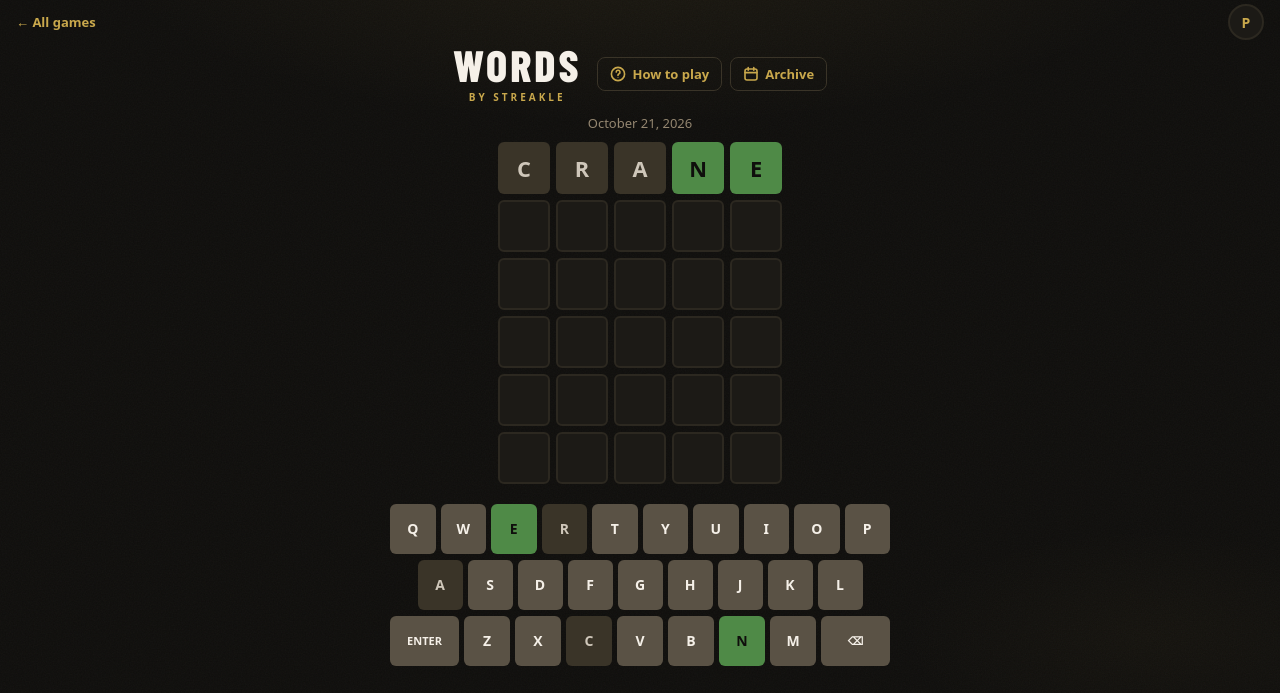
Test: Words: today's checkpoint › leaves today's checkpoint alone during a replay and resumes it after
This screenshot has width=1280, height=693.
Click the button with aria-label "Archive".
click(779, 74)  # box [730, 57, 827, 91]
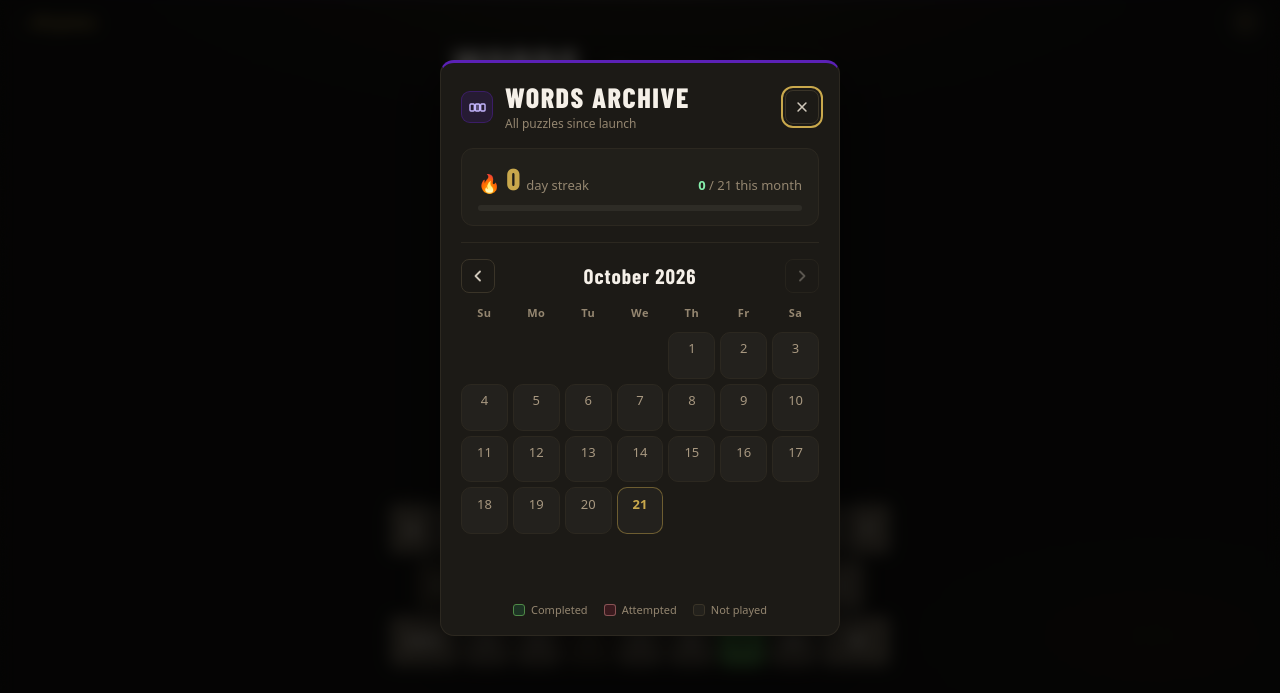
Click the button "18".
click(484, 511)  # box [461, 487, 508, 534]
Wait 2200 ms
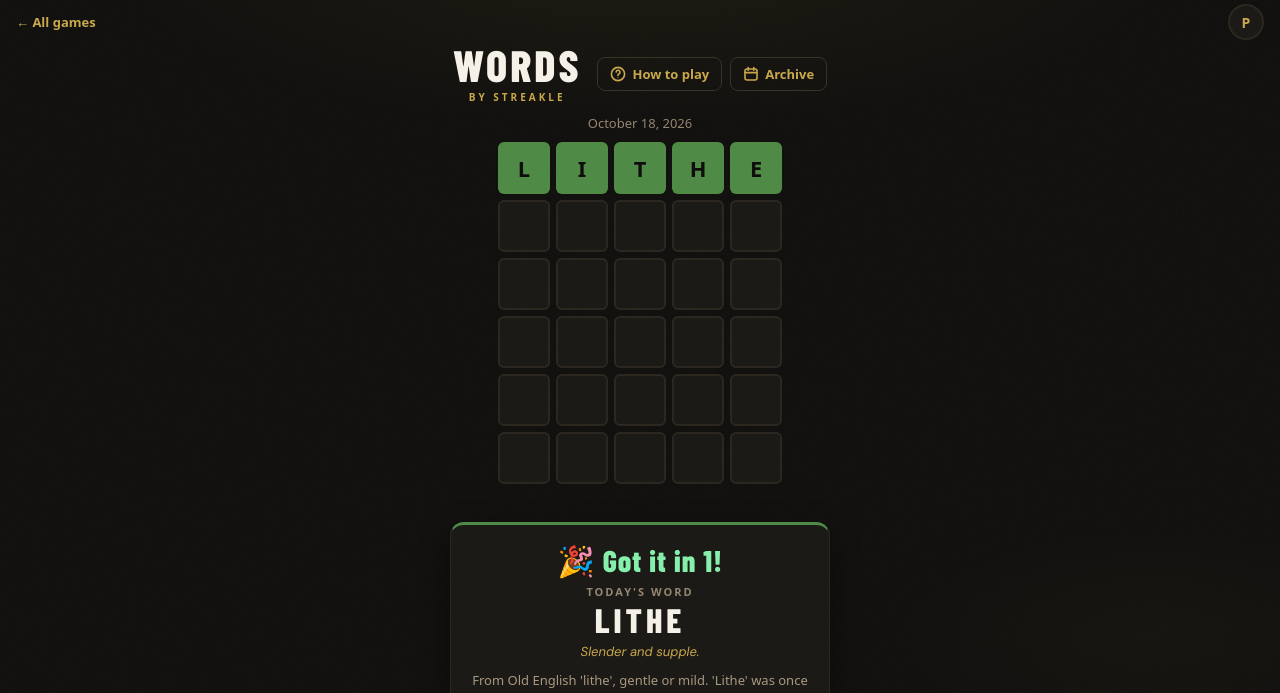
Click the button with aria-label "Archive".
click(779, 74)  # box [730, 57, 827, 91]
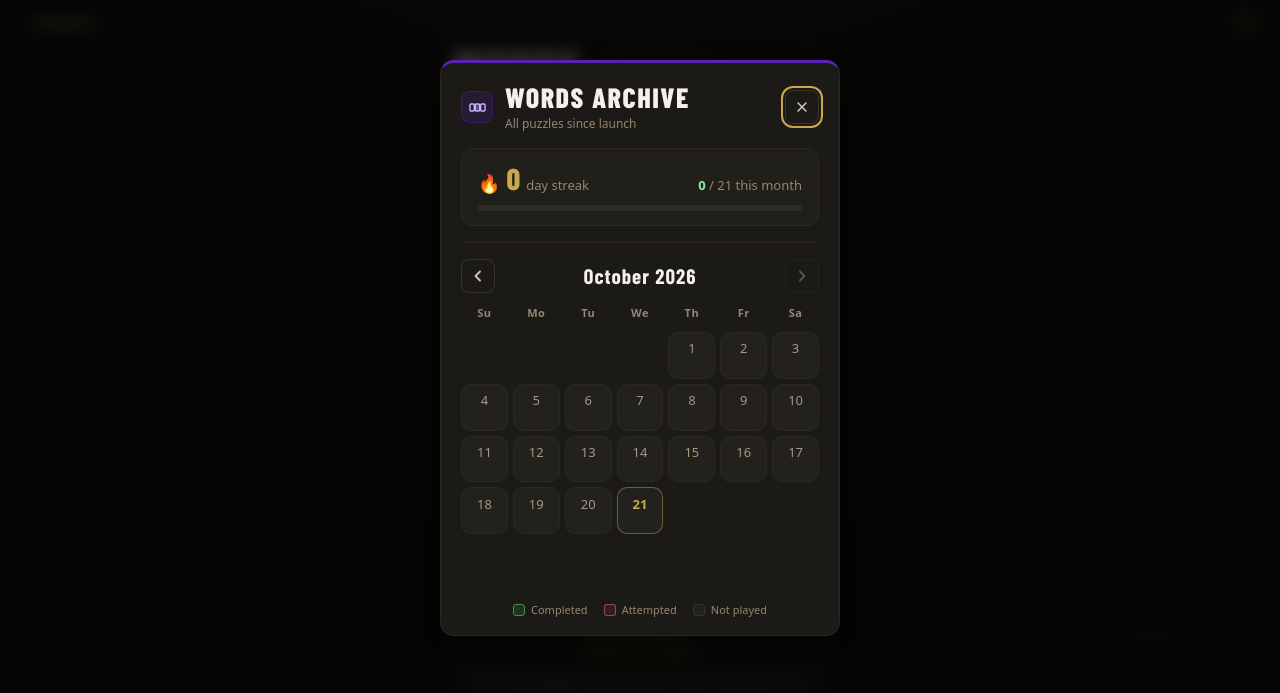
Click the button "21".
click(640, 511)  # box [617, 487, 664, 534]
Wait 2200 ms
(page scrolled)
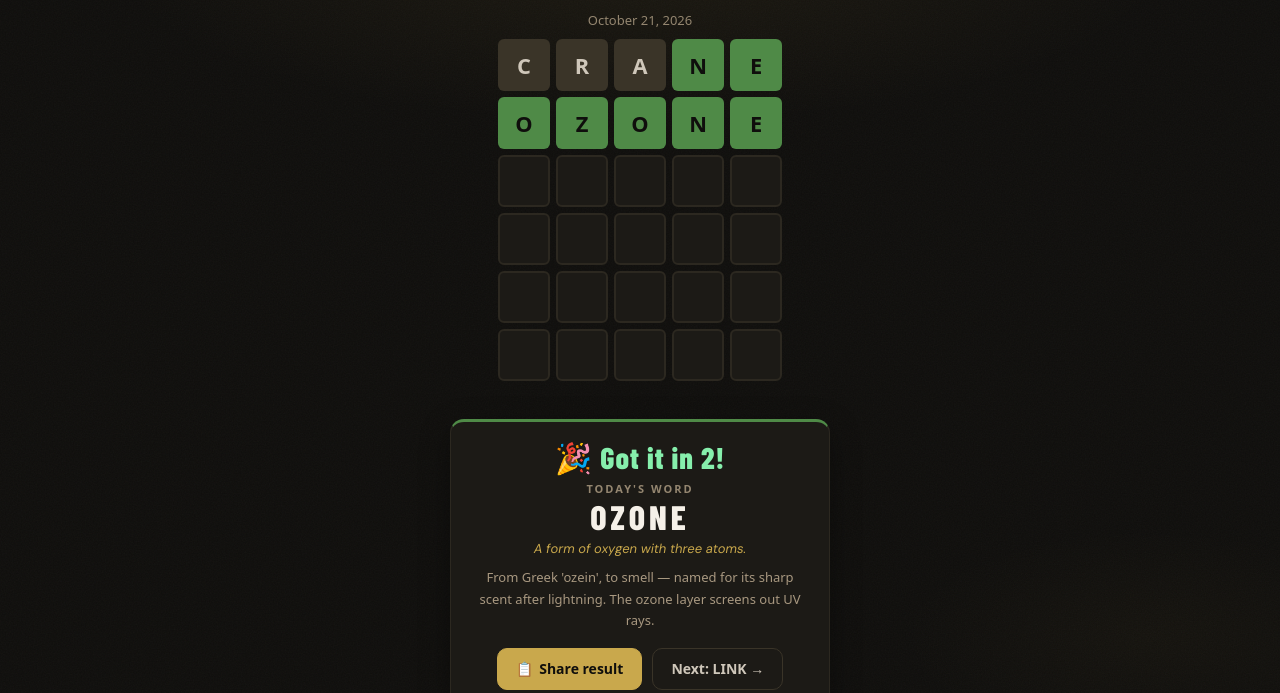
Check: the element showing "🎉 Got it in 2!" is shown, box [555, 439, 725, 475]
